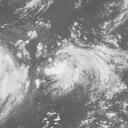cyclone: (47, 44, 111, 98)
